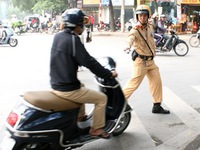police: (116, 4, 174, 118)
